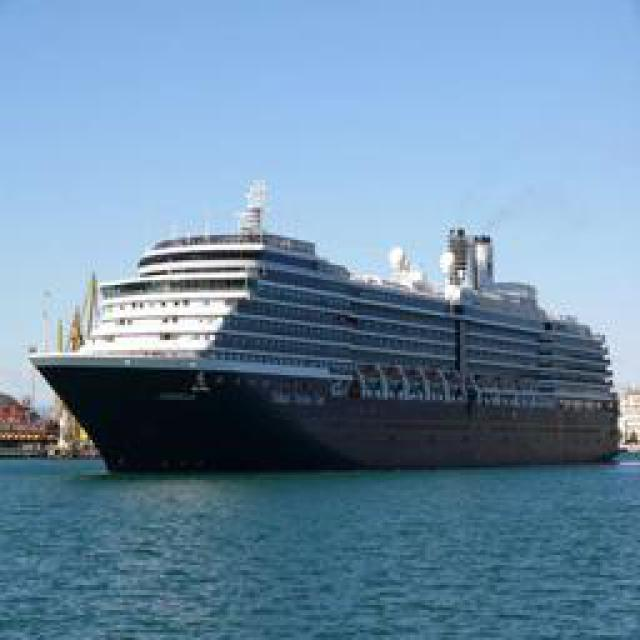Ship: (28, 197, 640, 473)
